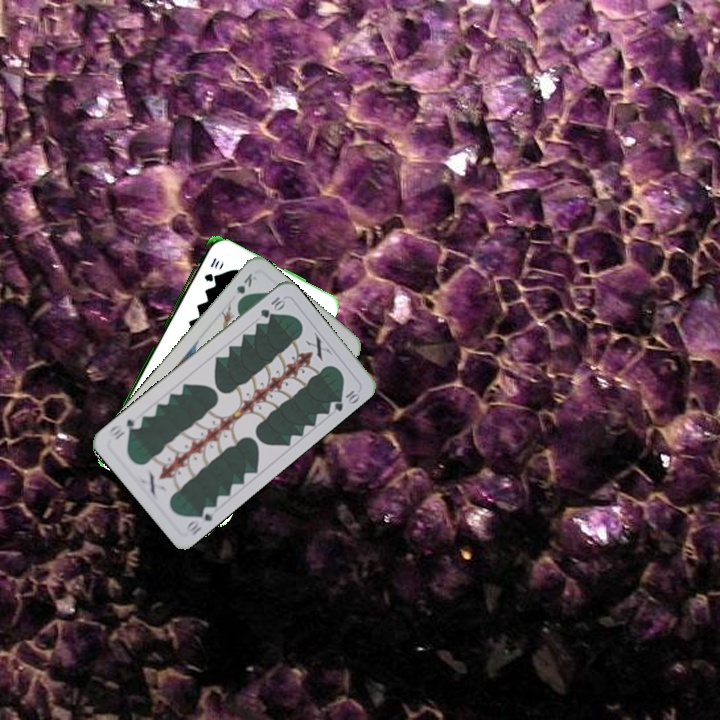G10: (183, 502, 216, 539), (256, 293, 288, 321), (200, 254, 222, 284)
GK: (232, 269, 260, 306)
